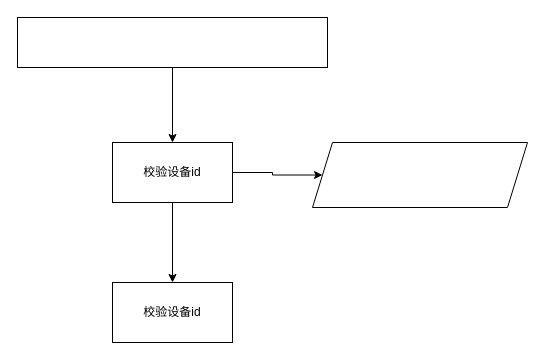
Image size: 545x360. Some labels were removed from this diagram. Here are the shapes that lost their labels. From the top down, the centre of each, then its label:
[172,42]: /appApi/photo/user/login
[420,175]: 设备 id 不能为空
